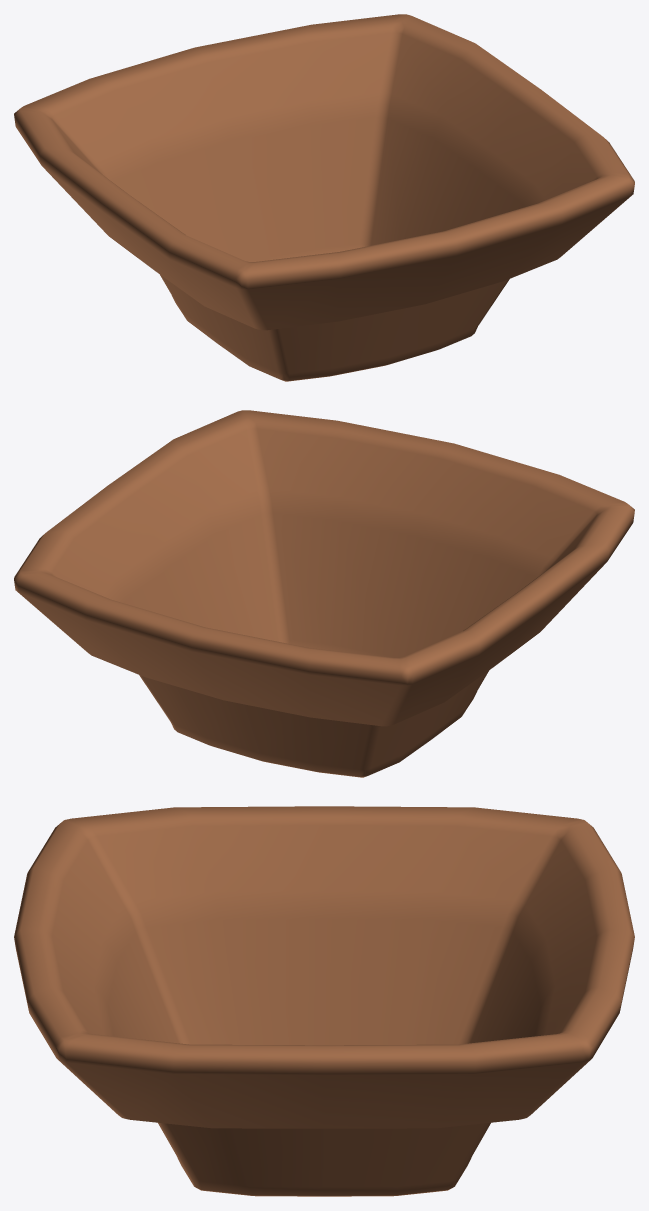
Rendered from Bowl_21_0.obj.
The picture shows the model from 3 angles, top to bottom: view 1: azimuth 30°, elevation 25°; view 2: azimuth 150°, elevation 25°; view 3: azimuth 270°, elevation 25°; orthographic projection. The views are drawn at different scales.
Bounding box in the file's own units: 0.2374 × 0.0913 × 0.2463.
